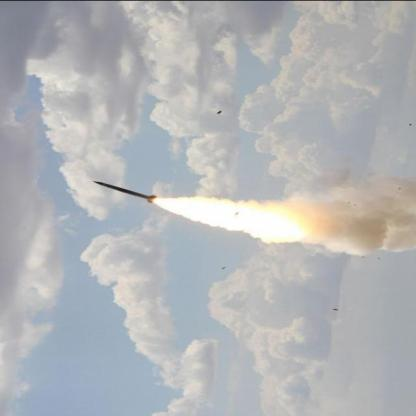MIL_TBM: (91, 179, 159, 203)
